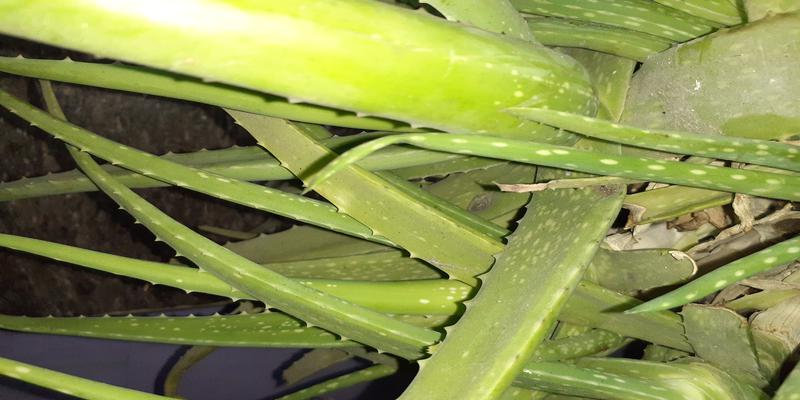Aloevera: (345, 17, 793, 382)
